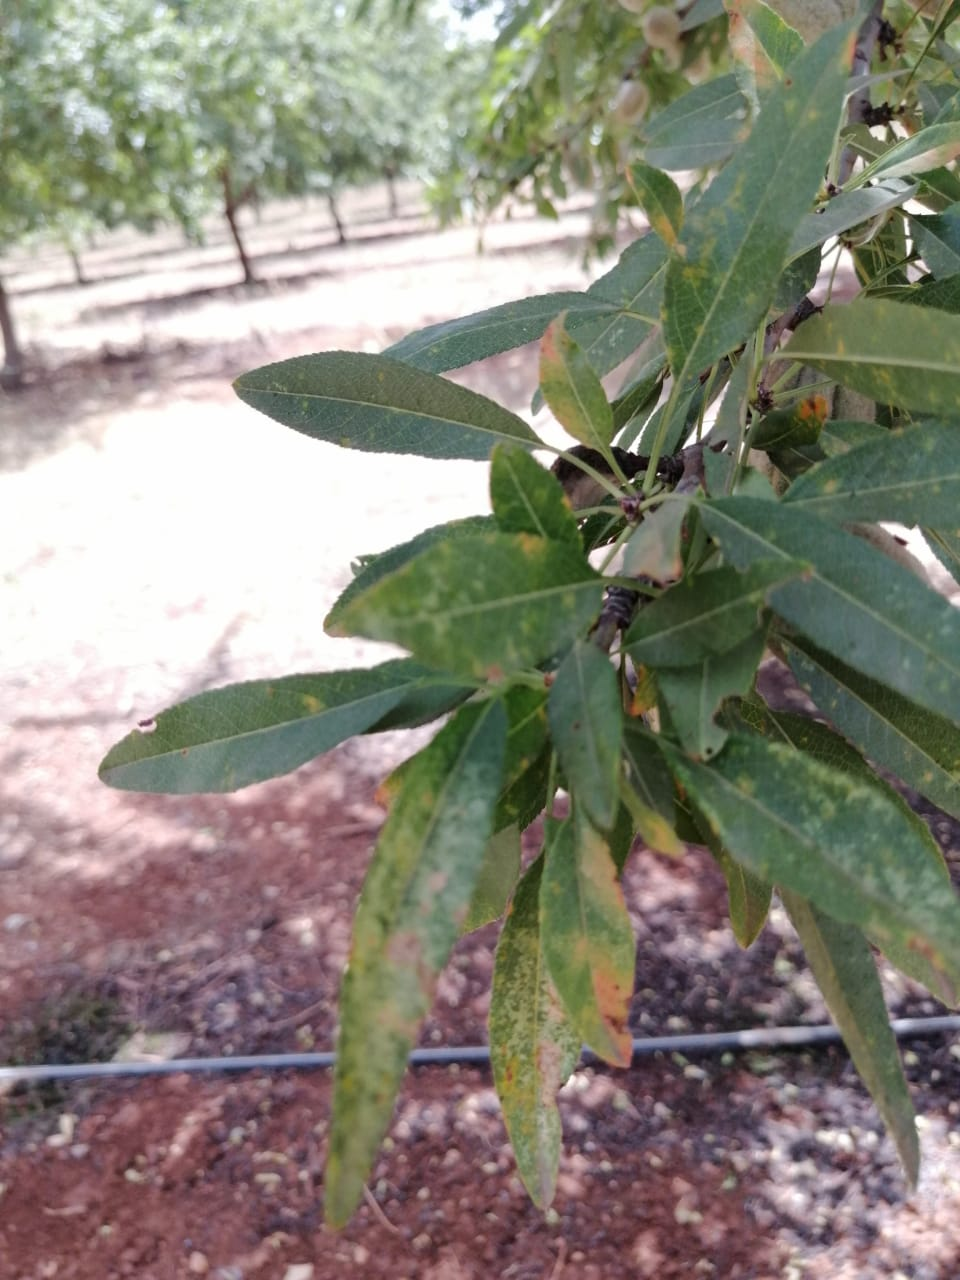faux tigre: (318, 695, 513, 1231), (659, 735, 960, 1008), (326, 531, 609, 676)
